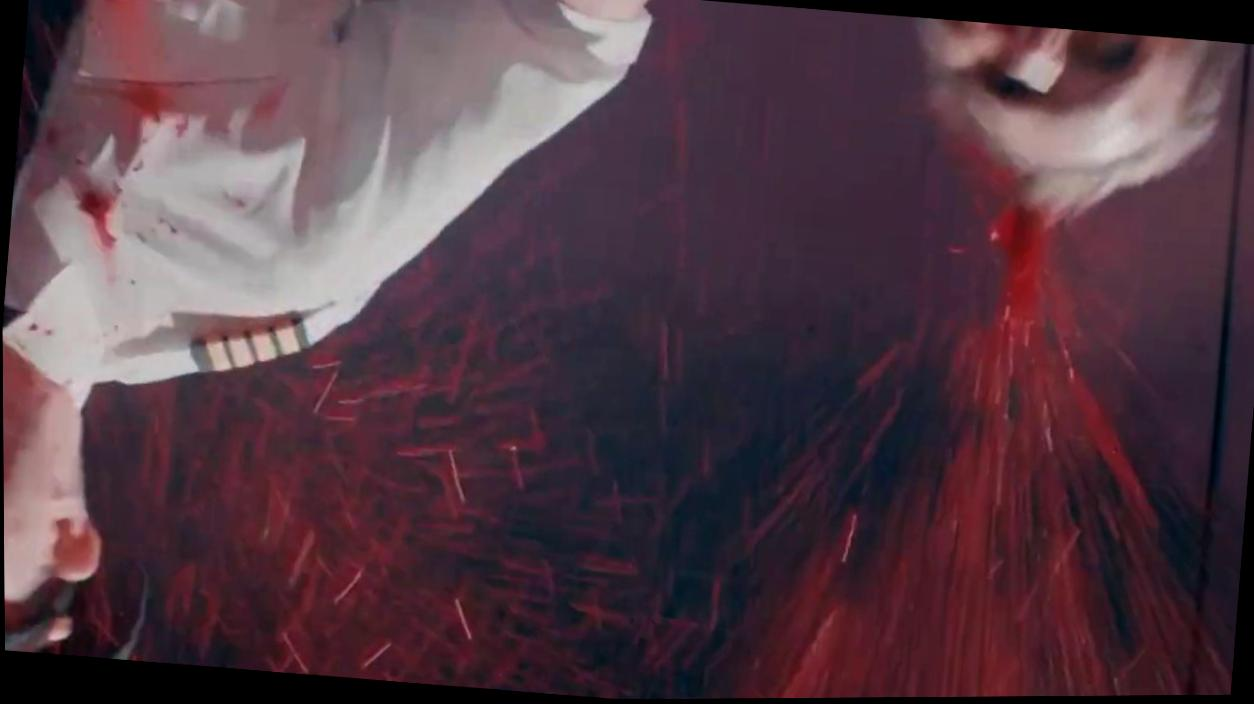Fire: (2, 0, 1246, 700)
